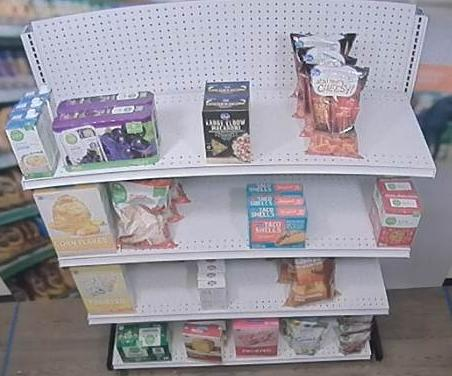stockout: (361, 66, 436, 164), (175, 179, 246, 246), (308, 177, 375, 246), (252, 71, 301, 160), (155, 83, 203, 165), (131, 265, 199, 311), (337, 256, 391, 307), (229, 261, 285, 307)
